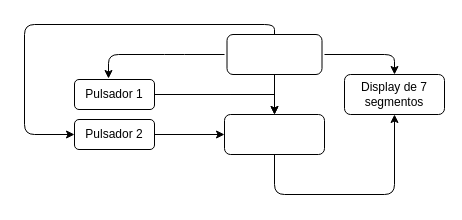
Some shapes in this 462 by 220 pixel diagram are drawn without their labels. The shapes that lost their labels are listed below. From the top down, each one's centre as x and y in pixels, then its label:
pixel 274 54: Fuente
pixel 274 134: Microcontrolador
